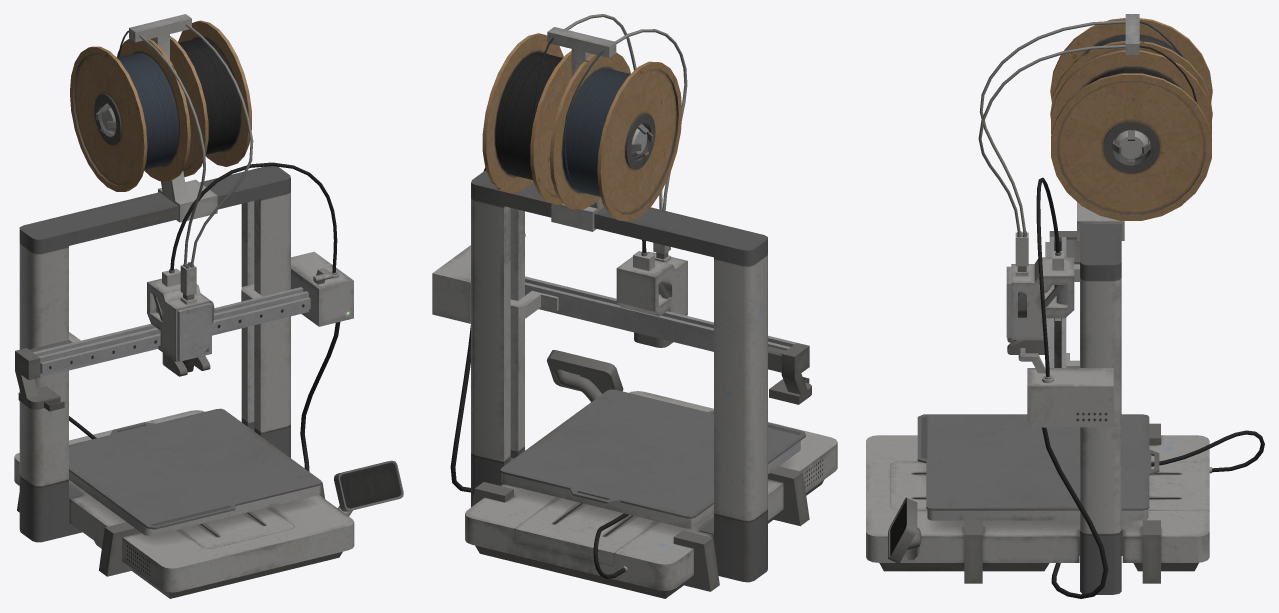
The model's file is 3d-printer.glb.
3 views of the same model, side by side, from view 1: azimuth 30°, elevation 25°; view 2: azimuth 150°, elevation 25°; view 3: azimuth 270°, elevation 25° (orthographic). The views are drawn at different scales.
Parts seen in each view (by area): view 1: 3d-printer; view 2: 3d-printer; view 3: 3d-printer.
Boxes of the visible parts, bbox=[...] form: 3d-printer: bbox=[14, 14, 403, 598]; 3d-printer: bbox=[432, 14, 837, 598]; 3d-printer: bbox=[866, 14, 1264, 598].
Bounding box in the file's own units: 0.4956 × 0.7013 × 0.4993.
Materials: 1 (1 with a texture image).
